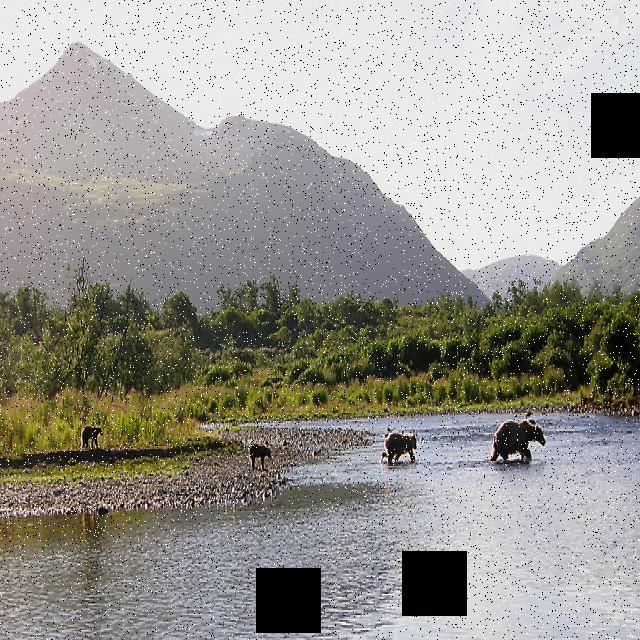Bear: (491, 404, 549, 465), (379, 424, 420, 463), (242, 437, 274, 466), (79, 422, 106, 451)
